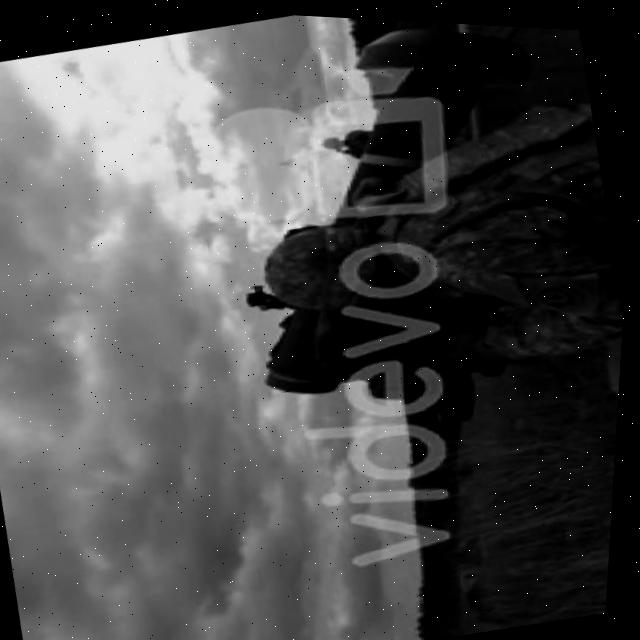rocket: (291, 12, 565, 245)
